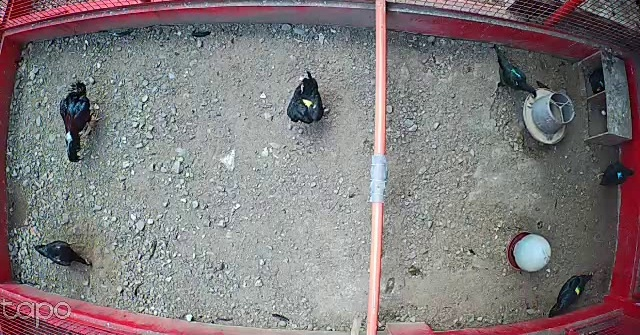Chicken: (545, 268, 596, 317), (286, 75, 331, 126), (28, 236, 97, 268), (591, 157, 637, 189)
Rooster: (57, 81, 108, 164)
Saddle_Color_Blue: (616, 171, 623, 179)
Saddle_Color_Yellow: (302, 97, 315, 109)
Saddle_Color_YellowGreen: (574, 286, 582, 296)
